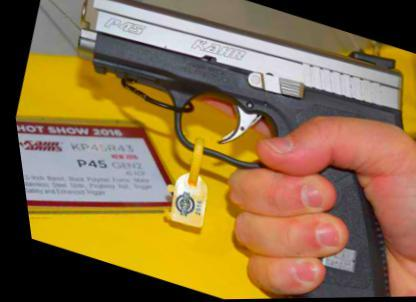pistol: (4, 0, 415, 299)
